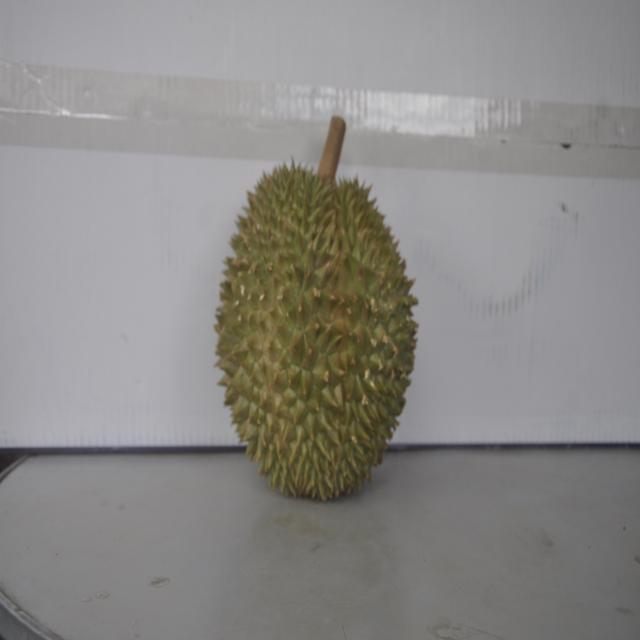mature: (212, 149, 420, 502)
